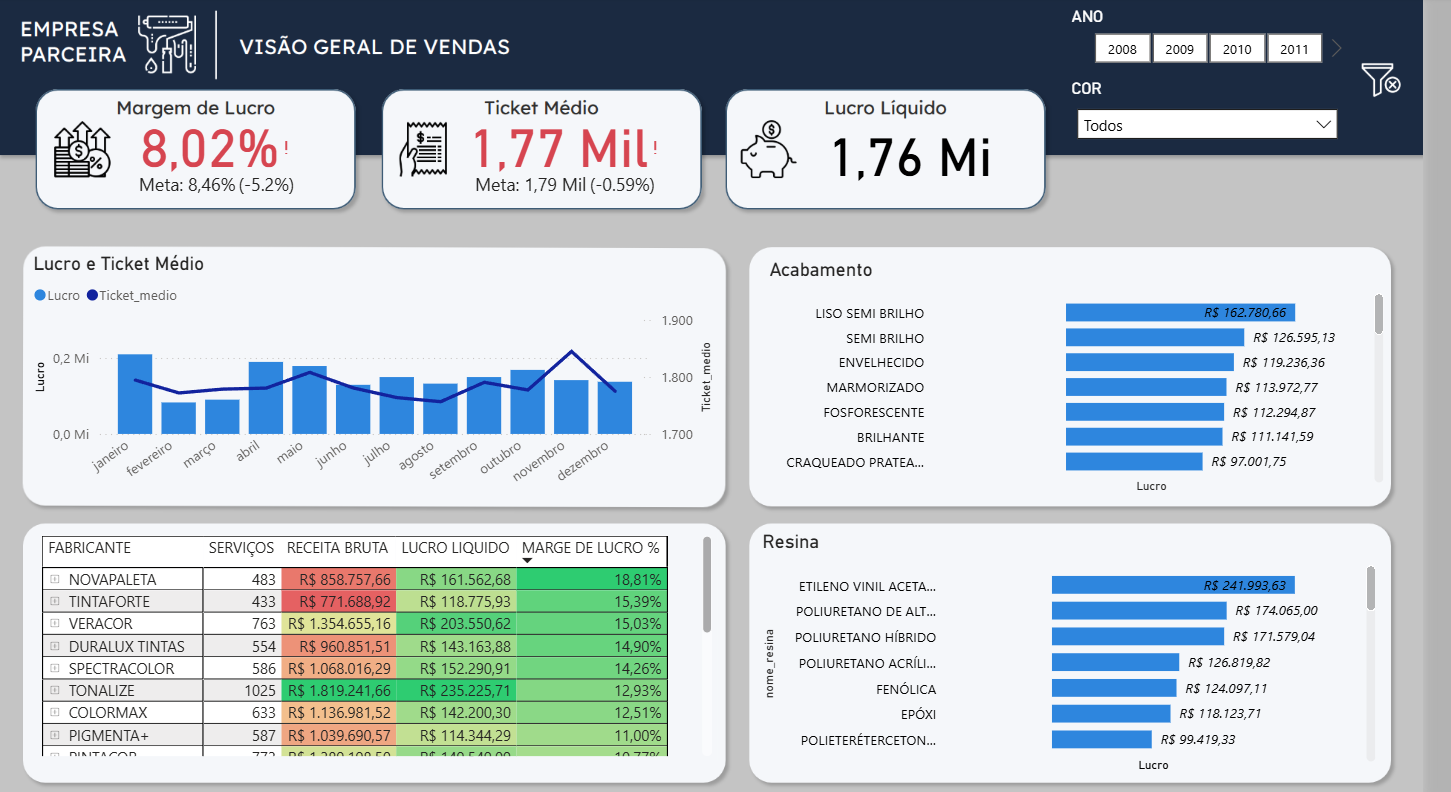

The page's visual inventory and layout, read from the dashboard file:
{"tool":"powerbi","page":{"name":"Página 1","canvas":[1280,720],"ordinal":0},"visuals":[{"type":"card","title":"Lucro Liquido","fields":{"Values":["_medidas.Lucro"]},"box":[702.9,97.9,232.5,95.2],"z":0},{"type":"kpi","title":"Ticket Médio ","fields":{"Indicator":["_medidas.Ticket_medio"],"TrendLine":["origem servico.data_servico.Variation.Hierarquia de datas.Mês"],"Goal":["_medidas.Ticket_estimado"]},"box":[404.9,97.9,210.1,95.2],"z":1000},{"type":"kpi","title":"Margem de Lucro","fields":{"Indicator":["_medidas.Margem_lucro"],"TrendLine":["origem servico.data_servico.Variation.Hierarquia de datas.Mês"],"Goal":["_medidas.Margem_estimada"]},"box":[87.1,97.9,220,95.2],"z":2000},{"type":"lineClusteredColumnComboChart","title":"Lucro e Ticket Médio","fields":{"Category":["origem servico.data_servico.Variation.Hierarquia de datas.Mês"],"Y":["_medidas.Lucro"],"Y2":["_medidas.Ticket_medio"]},"box":[27.8,228.9,619.5,225.3],"z":3000},{"type":"pivotTable","fields":{"Rows":["origem fabricante.nome_fabricante","origem tinta.cor"],"Values":["_medidas.Total_serviços","_medidas.Receita_bruta","_medidas.Lucro","_medidas.Margem_lucro"]},"box":[35,478.5,612.3,208.3],"z":4000},{"type":"clusteredBarChart","title":"Acabamento","fields":{"Category":["origem acabamento.nome_acabamento"],"Y":["_medidas.Lucro"]},"box":[688.6,234.3,561.1,215.5],"z":5000},{"type":"clusteredBarChart","title":"Resina","fields":{"Category":["origem resina.nome_resina"],"Y":["_medidas.Lucro"]},"box":[682.3,478.5,560.2,221.7],"z":6000},{"type":"slicer","title":"ANO","fields":{"Values":["origem servico.data_servico.Variation.Hierarquia de datas.Ano"]},"box":[959.3,9.8,254.1,53.9],"z":7000},{"type":"slicer","title":"COR","fields":{"Values":["origem tinta.cor"]},"box":[959.3,74.4,254.1,61.9],"z":8000},{"type":"image","box":[1219.2,52.1,46.7,44.9],"z":9001}]}

Visuals, with their boxes on the page's 1280x720 design canvas (x1, y1, x2, y2). These are canvas units, not pixel positions in the 1451x792 screenshot, which may show the page scaled, cropped or inside an application window:
"Lucro Liquido" card: locate(703, 98, 935, 193)
"Ticket Médio " kpi: locate(405, 98, 615, 193)
"Margem de Lucro" kpi: locate(87, 98, 307, 193)
"Lucro e Ticket Médio" lineClusteredColumnComboChart: locate(28, 229, 647, 454)
pivotTable - origem fabricante.nome_fabricante x origem tinta.cor: locate(35, 478, 647, 687)
"Acabamento" clusteredBarChart: locate(689, 234, 1250, 450)
"Resina" clusteredBarChart: locate(682, 478, 1242, 700)
"ANO" slicer: locate(959, 10, 1213, 64)
"COR" slicer: locate(959, 74, 1213, 136)
image: locate(1219, 52, 1266, 97)
